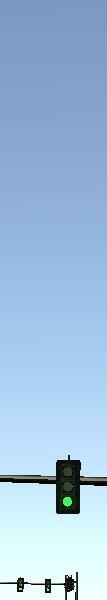Green: (54, 458, 81, 515)
